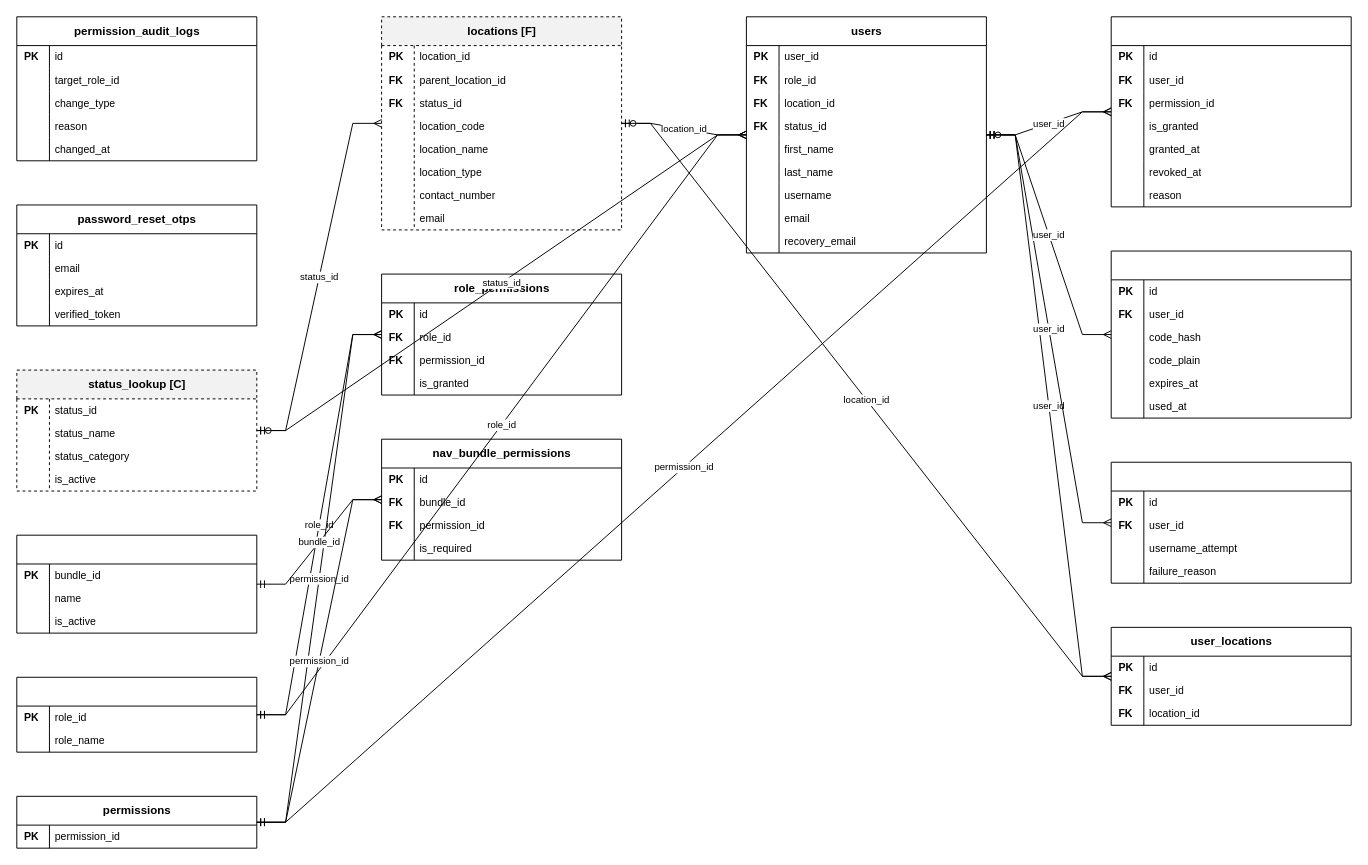
Image size: 1368x865. Some labels were removed from this diagram. The box of each missing label's shape, as (x1, y1, x2, y2) in pixels:
login_activities: (1110, 461, 1351, 583)
nav_permission_bundles: (16, 534, 257, 633)
password_reset_codes: (1110, 250, 1351, 418)
roles: (16, 676, 257, 752)
user_permission_overrides: (1110, 16, 1351, 207)
